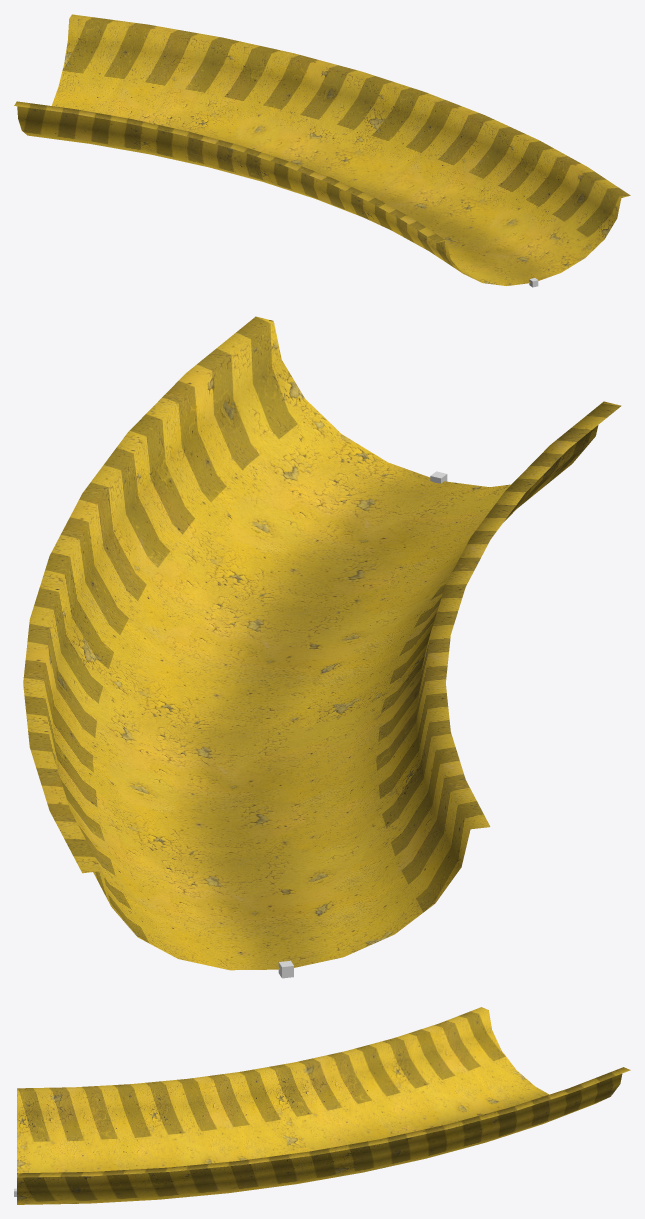
File: roadBend45.L.fbx
3 renders of one model, top to bottom at view 1: azimuth 30°, elevation 25°; view 2: azimuth 150°, elevation 25°; view 3: azimuth 270°, elevation 25°, orthographic. The views are drawn at different scales.
Parts seen in each view (by area): view 1: MESH roadBend45.L; view 2: MESH roadBend45.L; view 3: MESH roadBend45.L.
Boxes of the visible parts, <box> form: MESH roadBend45.L: <box>14,14,630,285</box>; MESH roadBend45.L: <box>23,316,621,970</box>; MESH roadBend45.L: <box>17,1007,630,1204</box>.
Size of what is drawn, in the model's own units: 3236 by 553 by 4945.
